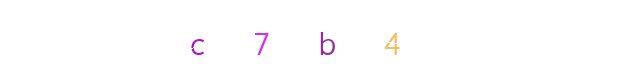4: (353, 0, 433, 80)
7: (244, 0, 324, 80)
B: (280, 0, 360, 80)
C: (220, 0, 300, 80)
